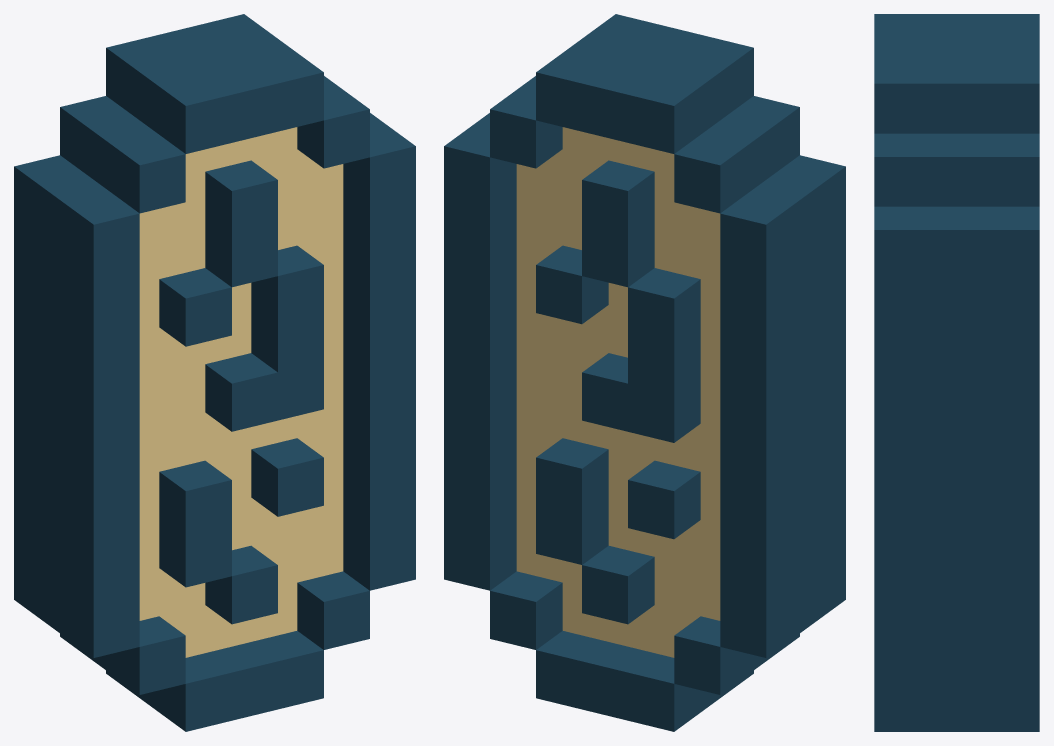
File: BS_Coin_Big_3.fbx
3 renders of one model, left to right at view 1: azimuth 30°, elevation 25°; view 2: azimuth 150°, elevation 25°; view 3: azimuth 270°, elevation 25°, orthographic. The views are drawn at different scales.
Visible parts, largest first — view 1: BS_Coin_Big_3; view 2: BS_Coin_Big_3; view 3: BS_Coin_Big_3.
Boxes of the visible parts, left/top/right/bottom form: BS_Coin_Big_3: left=14, top=14, right=415, bottom=731; BS_Coin_Big_3: left=444, top=14, right=845, bottom=731; BS_Coin_Big_3: left=874, top=14, right=1039, bottom=731.
Size of the model in its own units: 17.5 by 7.5 by 32.5.
